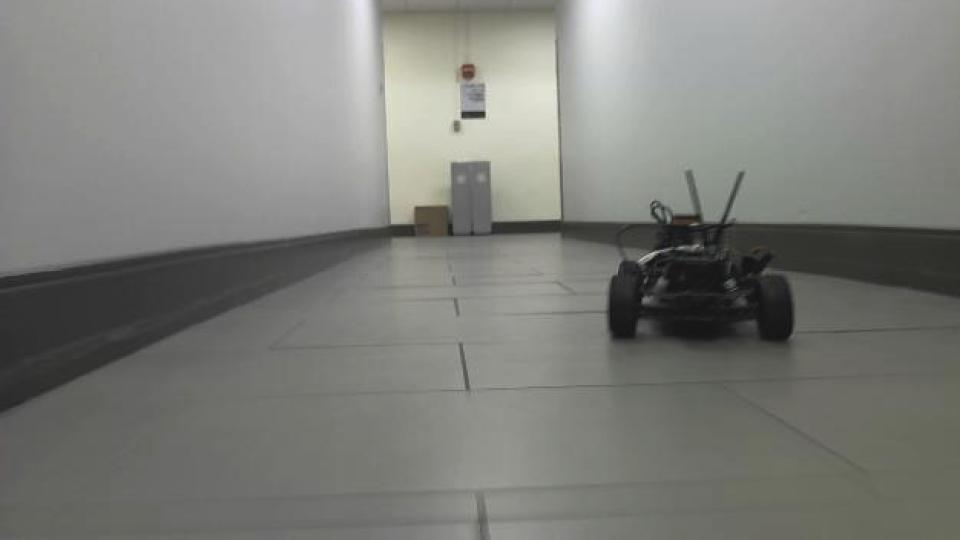car: (604, 166, 799, 345)
